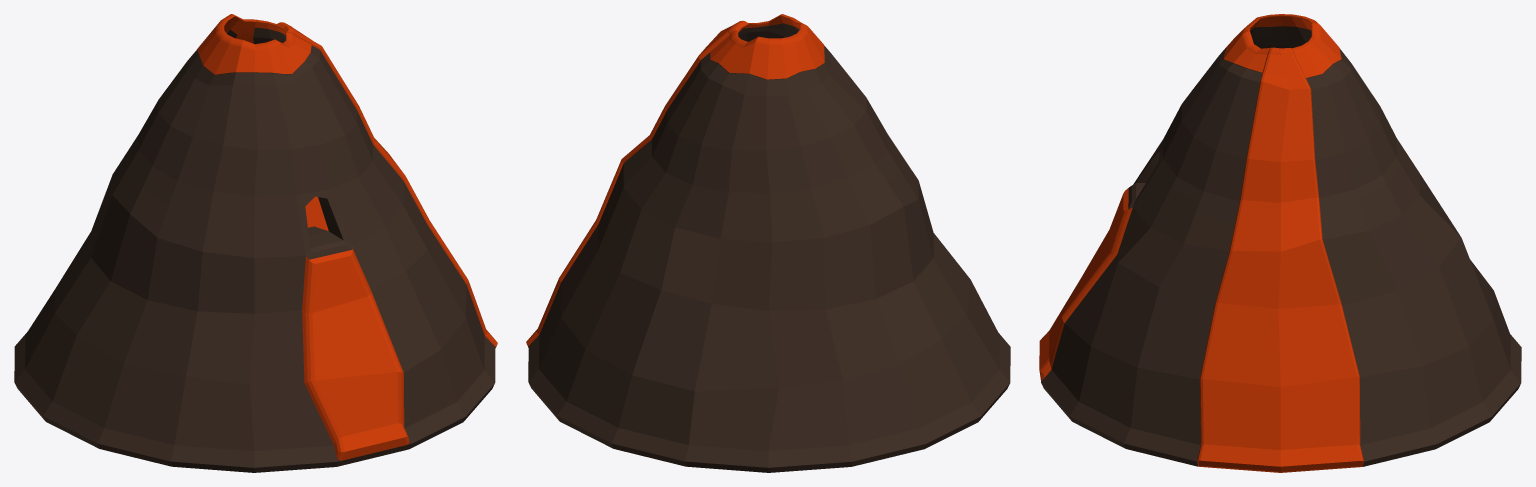
The model's file is VolcanoFlat.fbx.
The picture shows the model from 3 angles, left to right: view 1: azimuth 30°, elevation 25°; view 2: azimuth 150°, elevation 25°; view 3: azimuth 270°, elevation 25°; orthographic projection.
Visible parts, largest first — view 1: Circle.001, Circle.004, Circle.002, Circle.006, Circle.003; view 2: Circle.001, Circle.002; view 3: Circle.001, Circle.002, Circle.004, Circle.006.
Boxes of the visible parts, <box> form: Circle.001: <box>14,27,495,472</box>; Circle.004: <box>302,247,409,460</box>; Circle.002: <box>197,14,497,348</box>; Circle.006: <box>224,15,286,43</box>; Circle.003: <box>305,196,328,231</box>; Circle.001: <box>528,23,1010,472</box>; Circle.002: <box>526,14,824,347</box>; Circle.001: <box>1041,26,1521,466</box>; Circle.002: <box>1197,14,1363,472</box>; Circle.004: <box>1039,188,1132,380</box>; Circle.006: <box>1250,15,1312,39</box>.
Bounding box in the file's own units: 2565 × 2005 × 2516.
